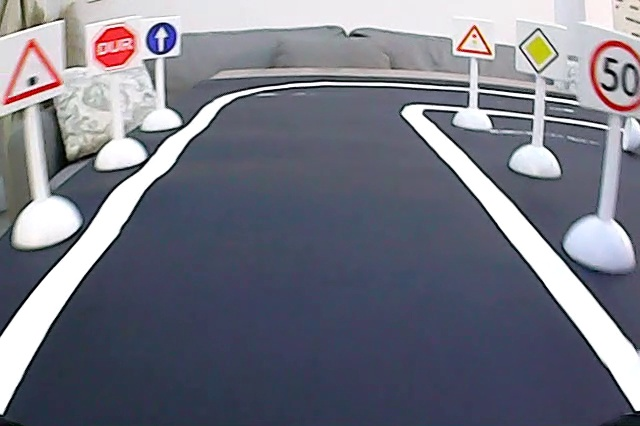green light: (3, 34, 69, 104)
red light: (456, 22, 494, 57)
speed limit 50: (583, 27, 640, 113)
stop sign: (88, 23, 140, 71)
